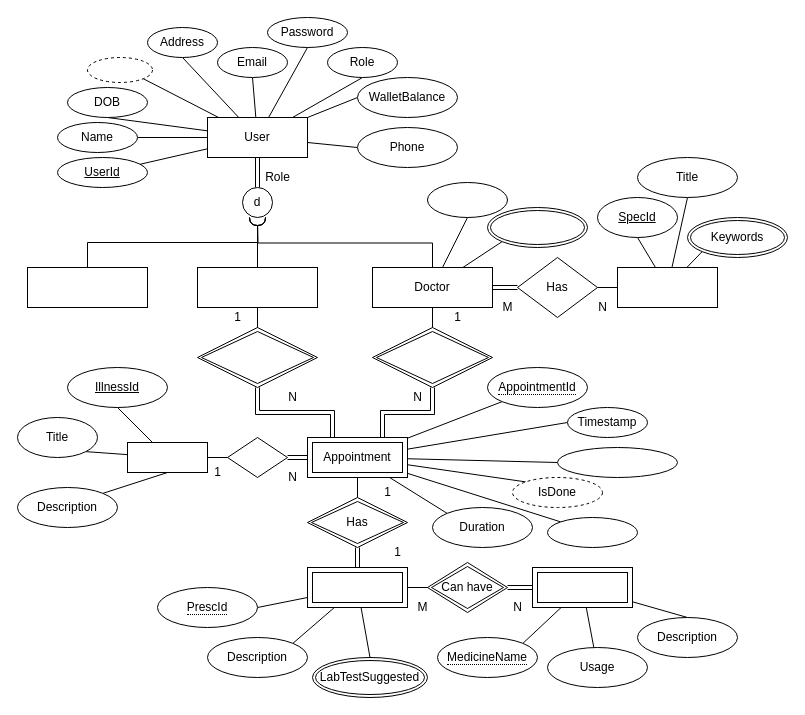
Image size: 805x715. Some labels were removed from this diagram. The centre of each missing label's shape, as x and y in pixels:
Admin: point (87, 287)
Age: point (119, 69)
Appointment_Date: point (617, 462)
Fees: point (467, 200)
For: point (257, 457)
Gets: point (257, 357)
Gives: point (432, 357)
Illness: point (167, 457)
IsActive: point (592, 532)
Leaves: point (537, 227)
Medicine: point (582, 587)
Patient: point (257, 287)
Prescription: point (357, 587)
Specialization: point (667, 287)
